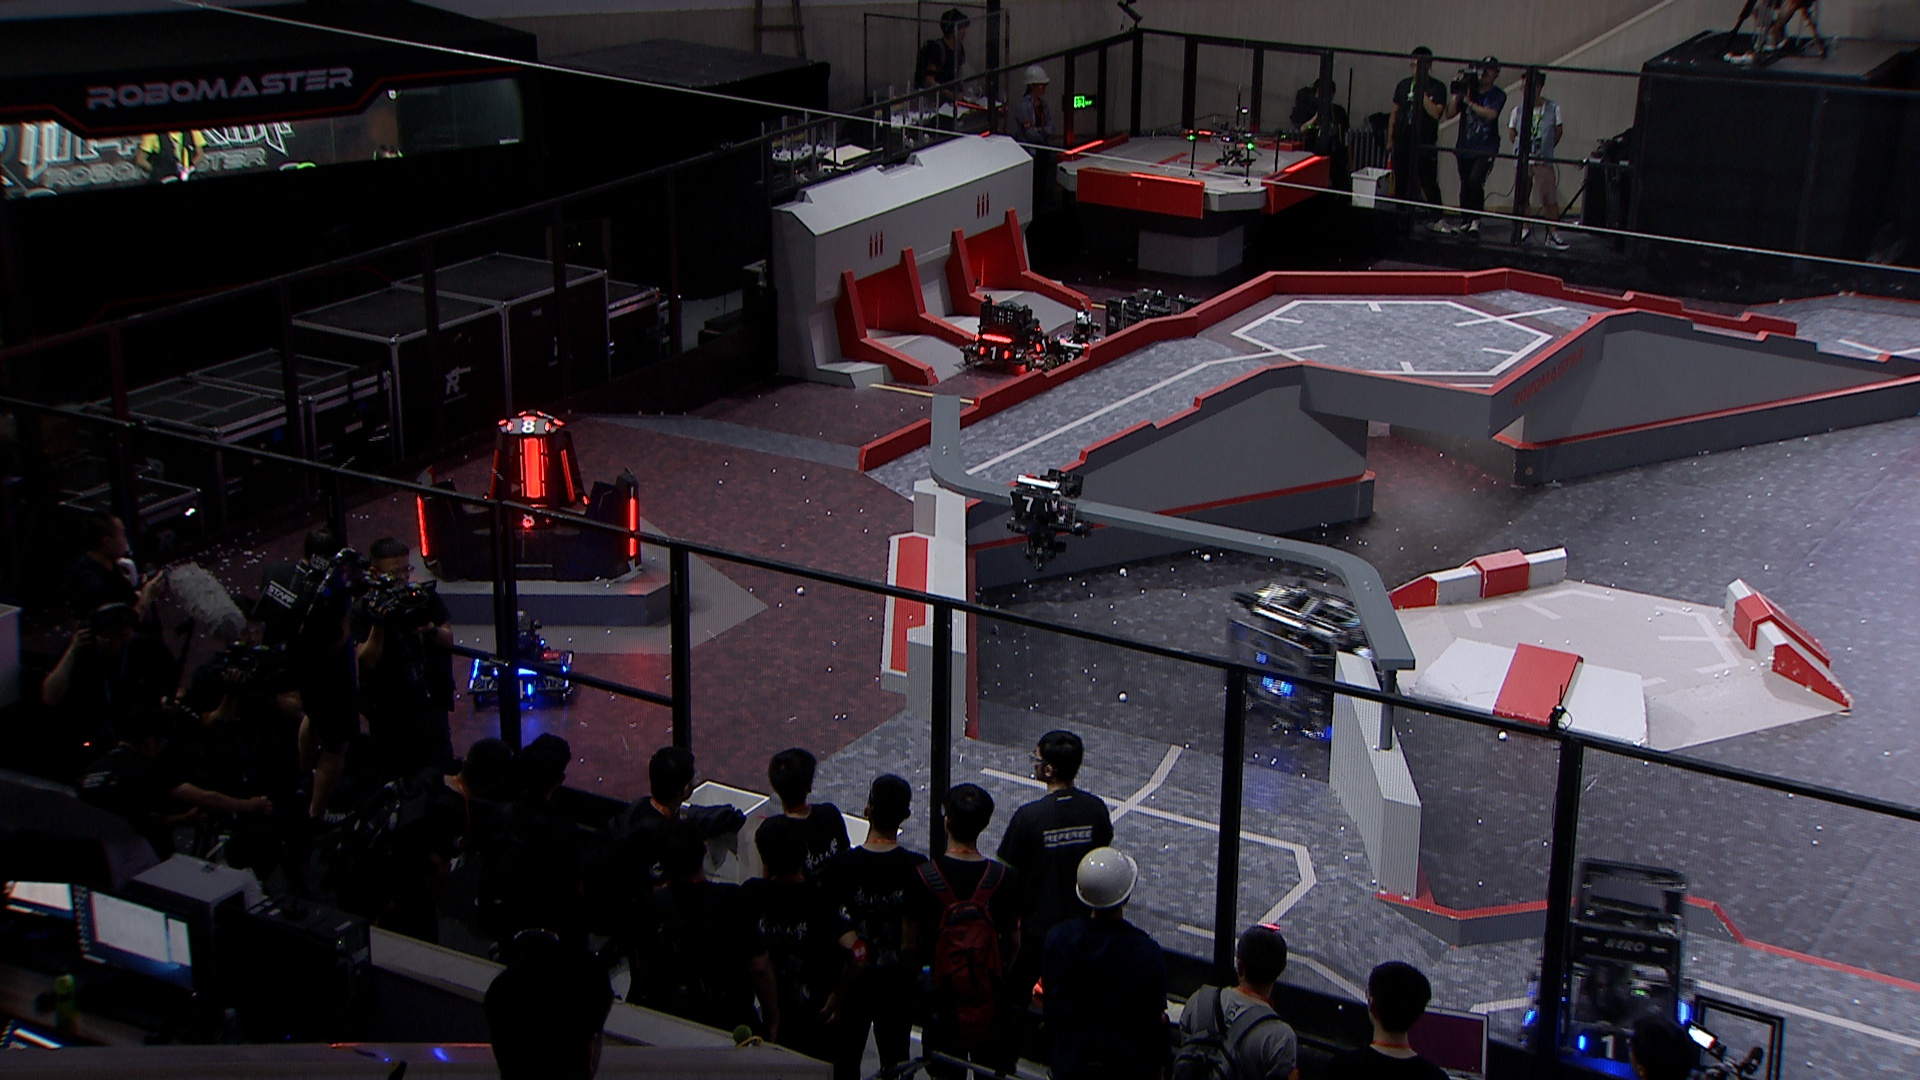armor: (517, 434, 549, 498), (1572, 1031, 1633, 1063), (414, 491, 433, 560), (558, 446, 578, 504), (622, 498, 640, 560), (1005, 493, 1048, 514), (484, 448, 500, 502), (504, 419, 553, 436), (513, 512, 553, 531), (1258, 675, 1292, 698), (977, 344, 1011, 363), (514, 679, 535, 703), (1034, 335, 1054, 356), (1058, 351, 1077, 367)
base: (410, 414, 642, 584)
car: (1516, 853, 1712, 1072), (1220, 575, 1391, 742), (465, 611, 576, 704), (1102, 286, 1205, 386), (957, 294, 1054, 376), (1043, 309, 1110, 373)
watcher: (1001, 467, 1088, 571)
